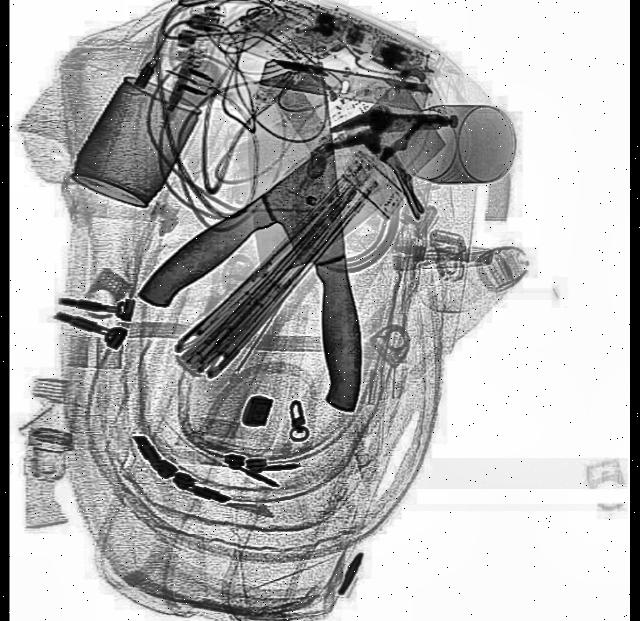Knife: (133, 73, 450, 362), (240, 63, 366, 416)
